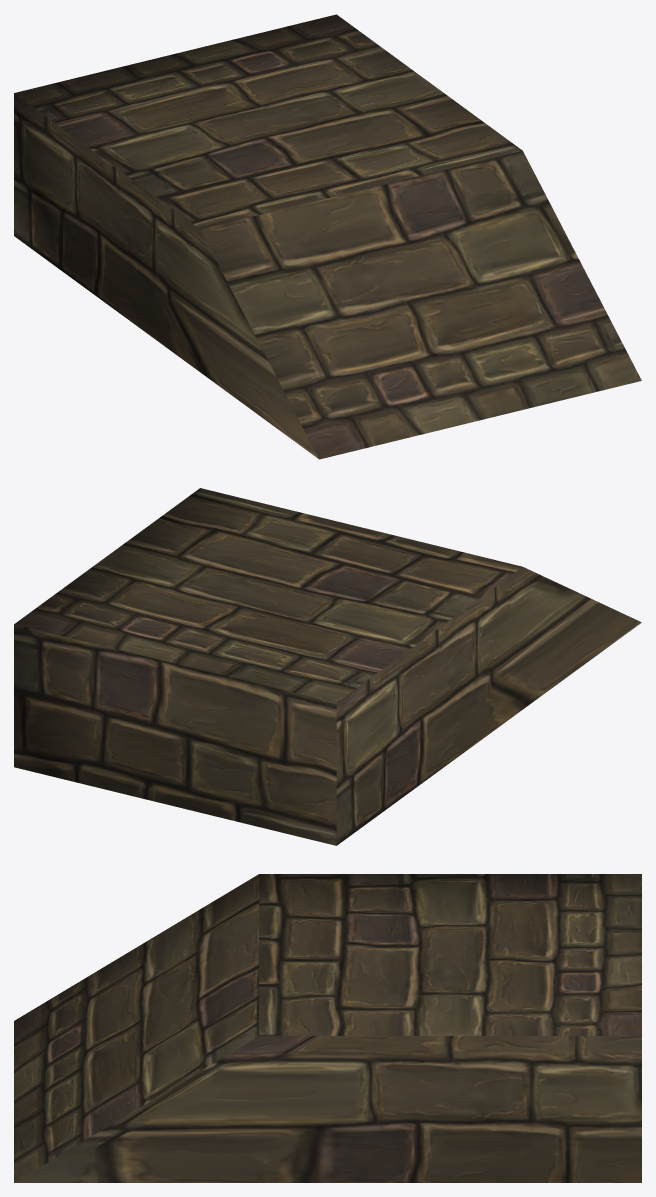
File: floor_raised__slope_tile.fbx
3 views of the same model, one above another, from view 1: azimuth 30°, elevation 25°; view 2: azimuth 150°, elevation 25°; view 3: azimuth 270°, elevation 25° (orthographic). The views are drawn at different scales.
Visible parts, largest first — view 1: floor_tile_002; view 2: floor_tile_002; view 3: floor_tile_002.
Part boxes in pixels (x1,y1,x2,y2): floor_tile_002: (14, 14, 641, 459); floor_tile_002: (14, 488, 641, 845); floor_tile_002: (14, 874, 641, 1182).
Bounding box in the file's own units: 40 × 16.93 × 65.58.
